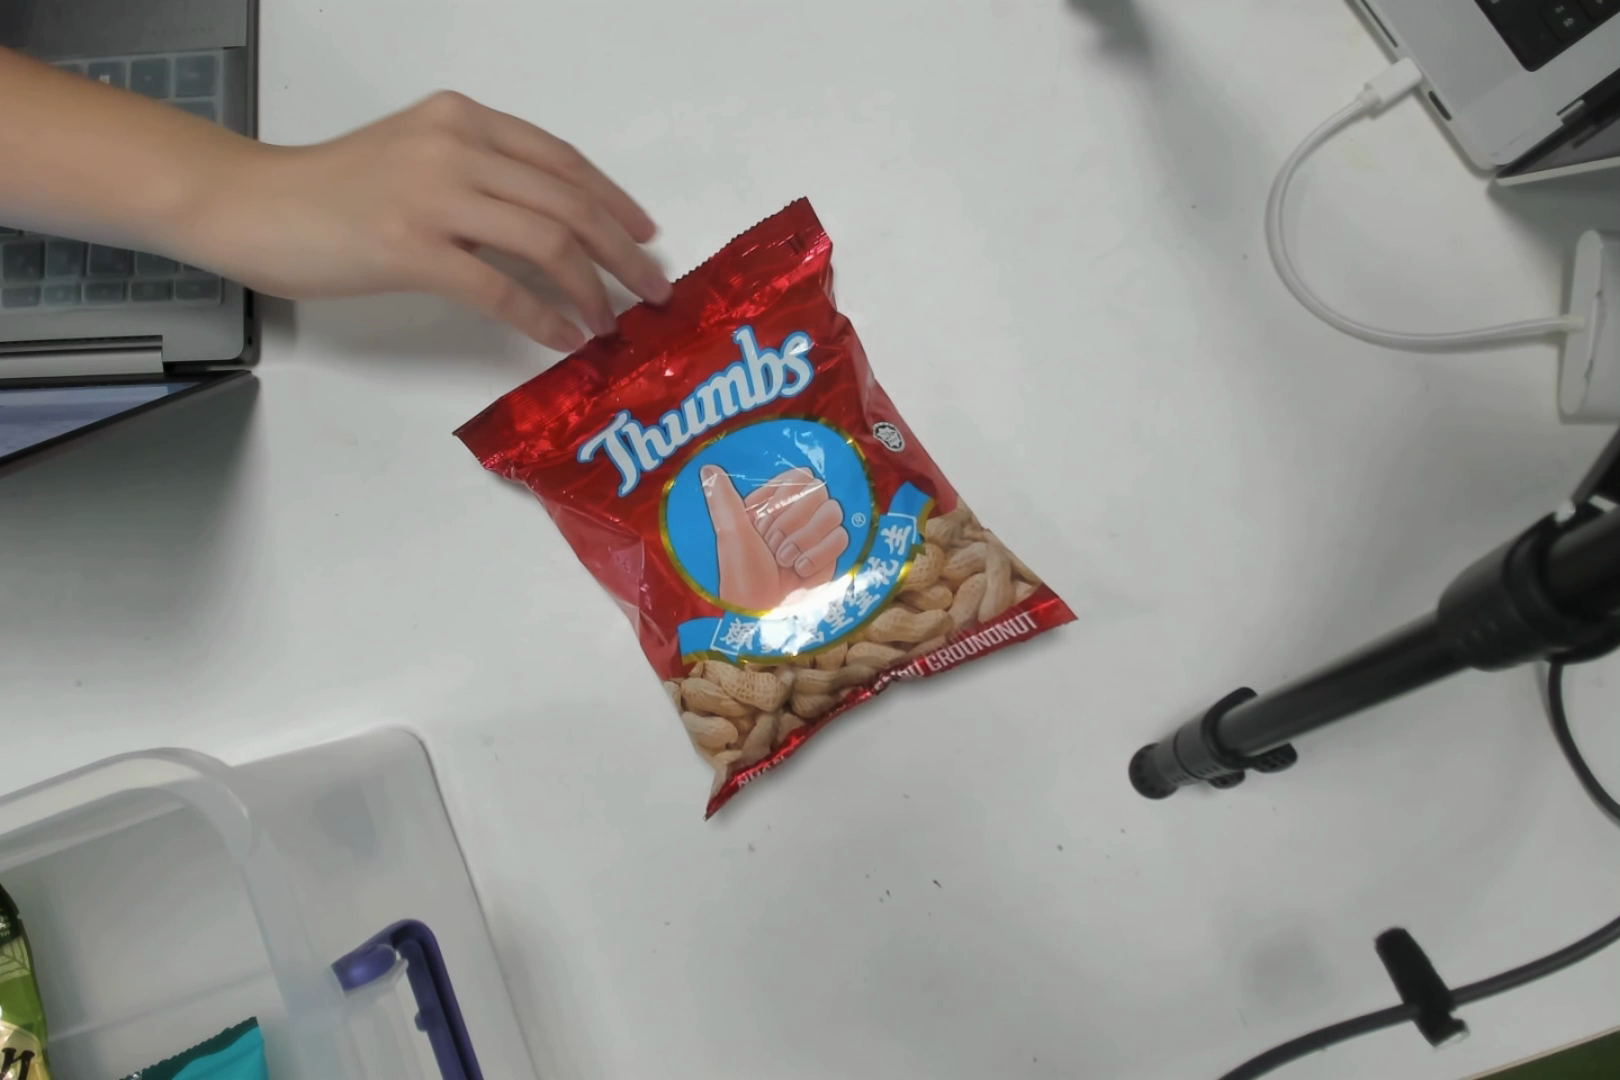Nuts_100-199g_Halal_NonHealthy: (581, 278, 974, 761)
